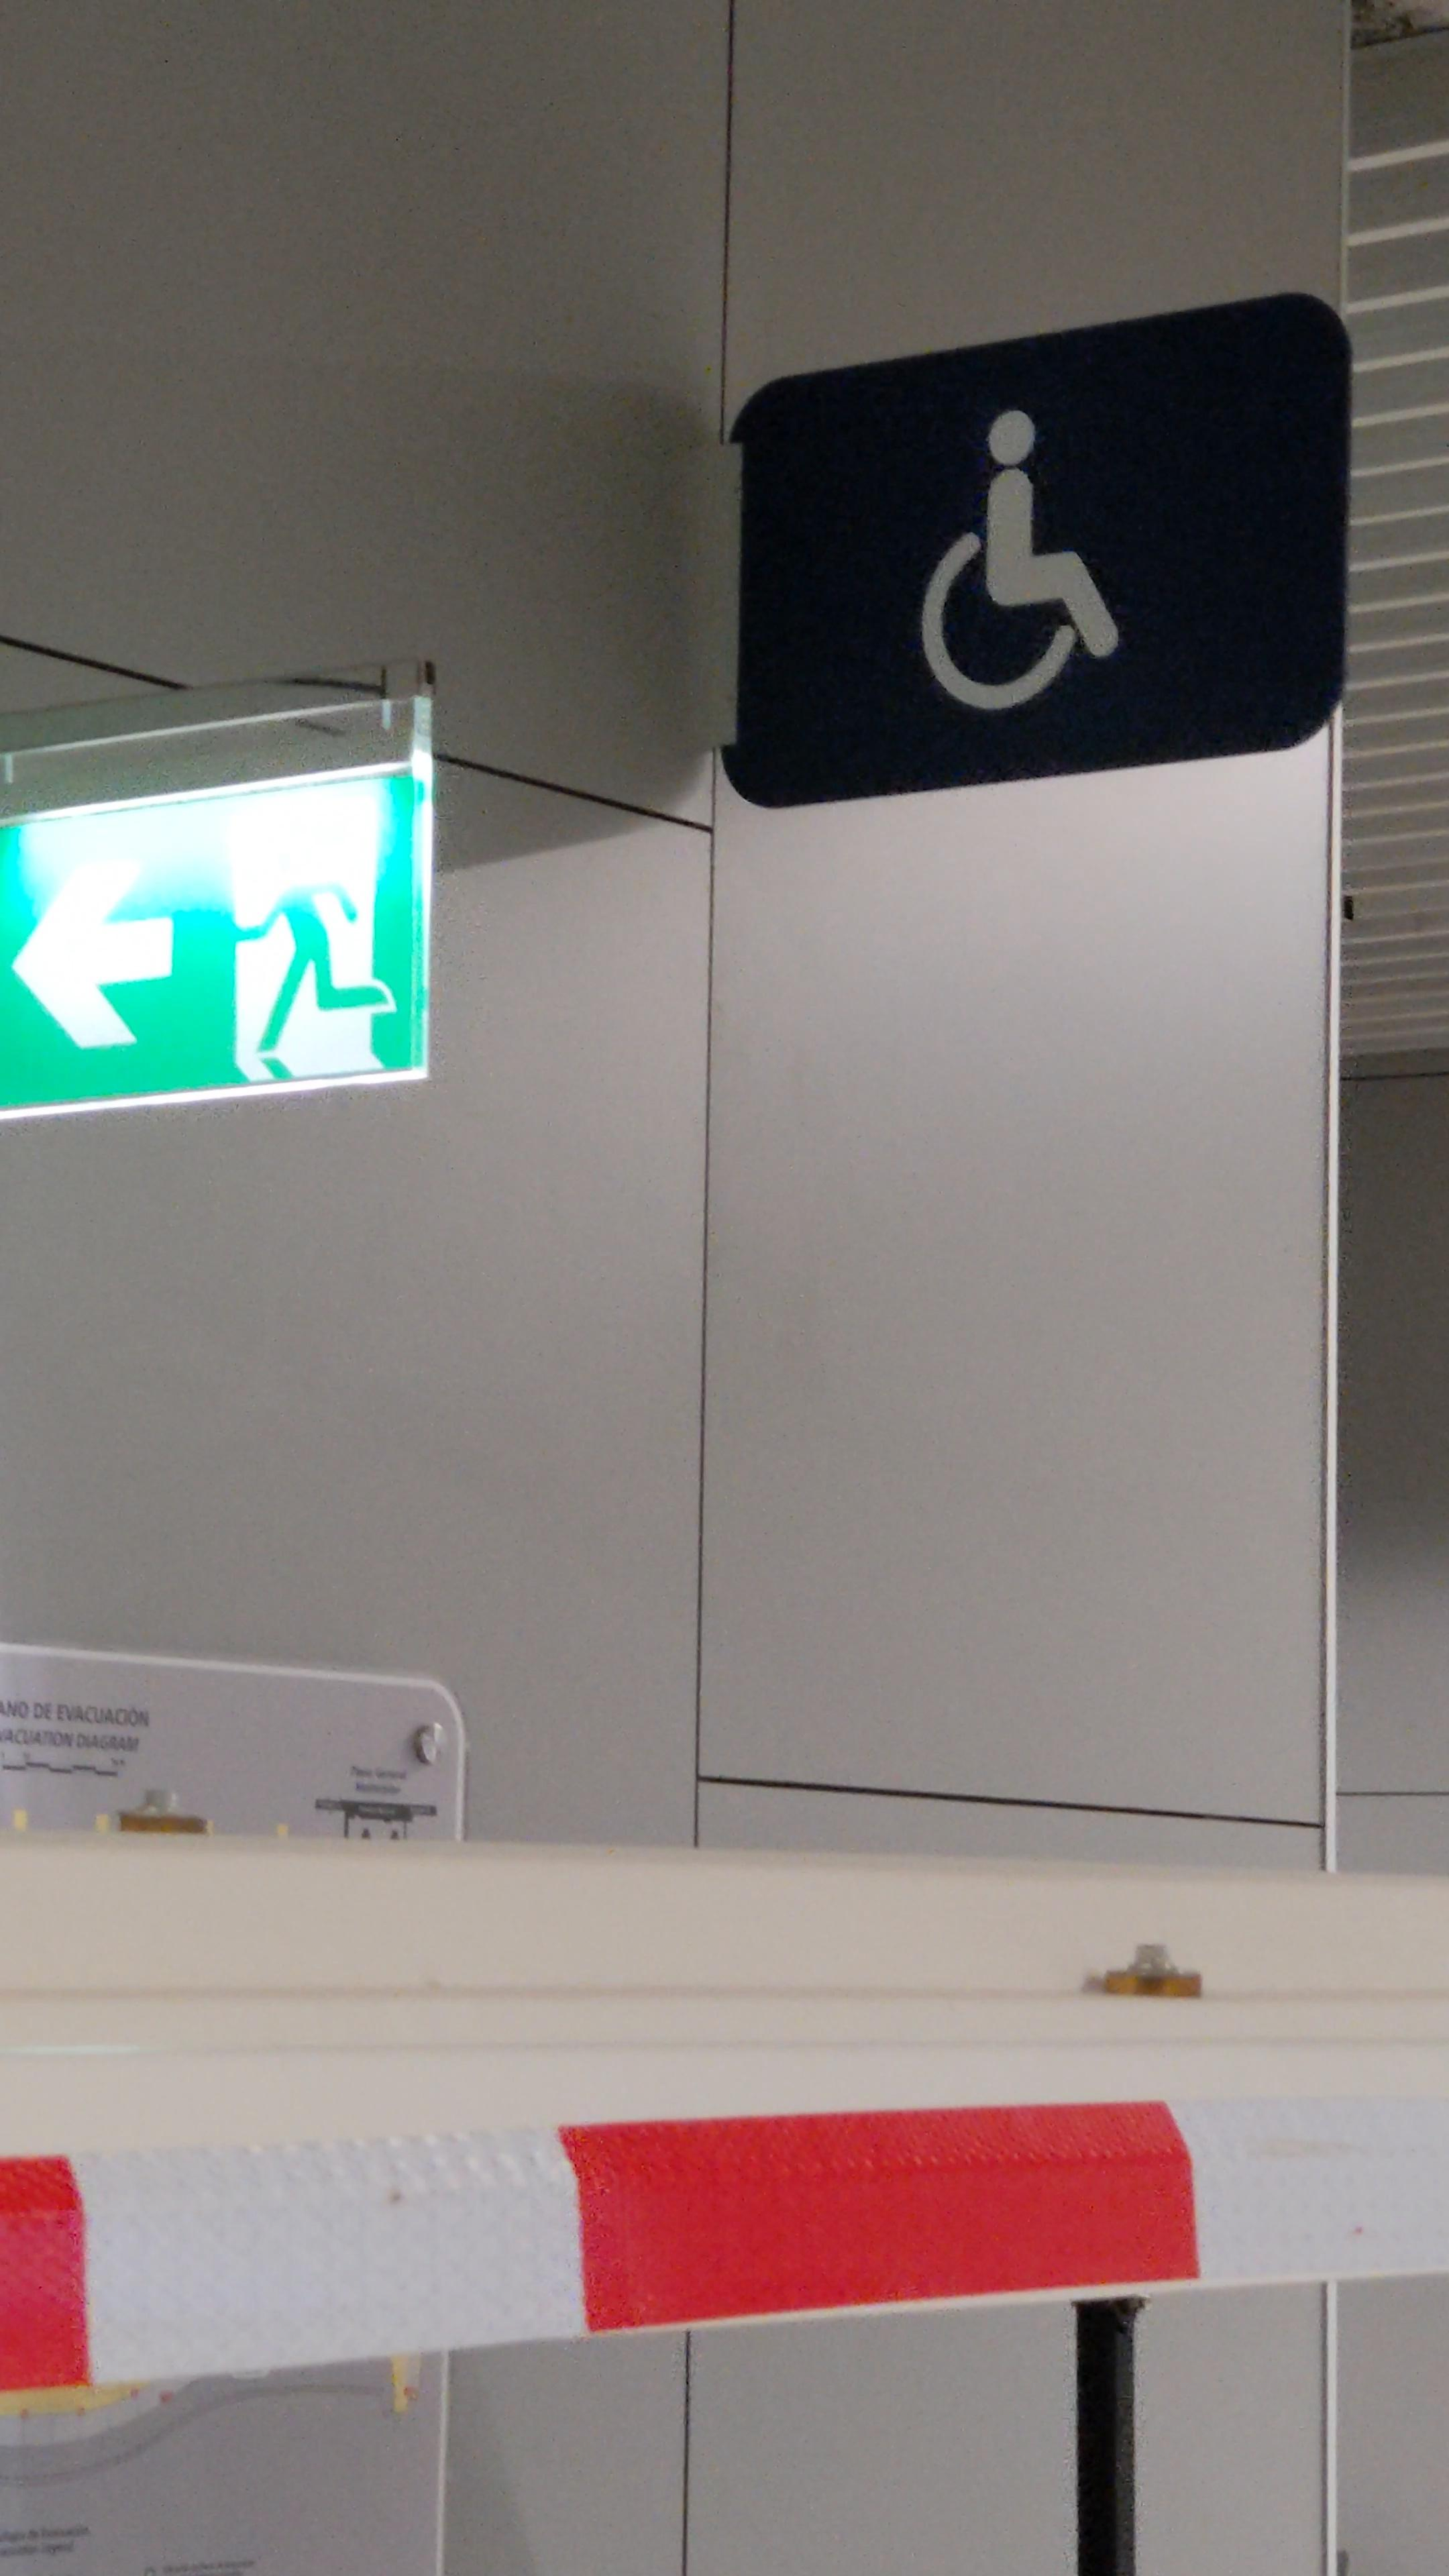emergency exit: (219, 764, 396, 1113)
emergency left arrow: (9, 846, 188, 1054)
handicapped symbol: (895, 395, 1129, 722)
